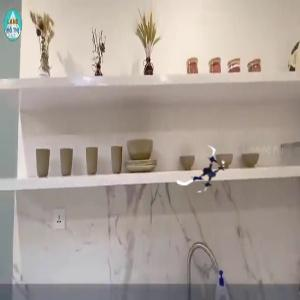drone: (181, 145, 232, 196)
